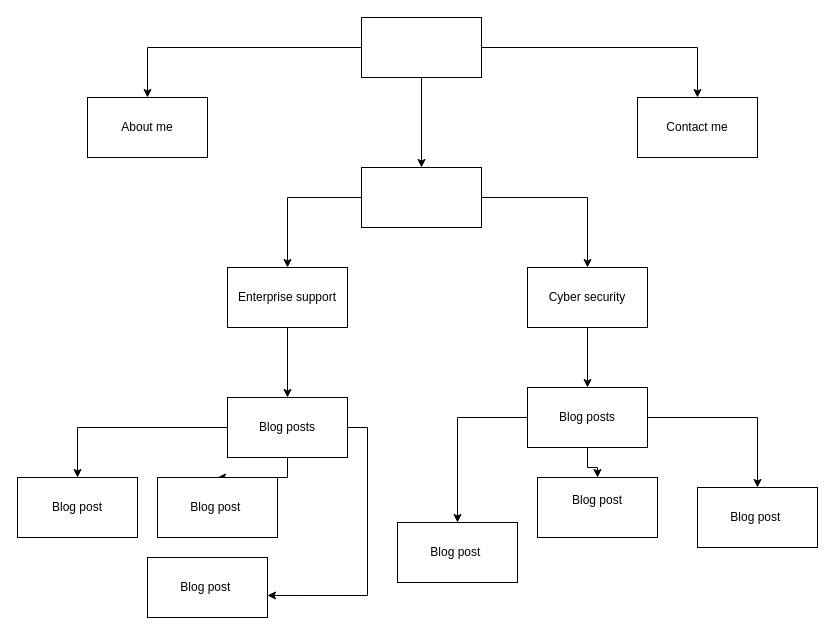
This 835x635 diagram has some shape labels left out. The shapes that lost their labels are listed below. From the top down, each one's box as (x1, y1, x2, y2) in pixels, then its label:
(360, 16, 482, 78): Home page
(360, 166, 482, 228): Services
